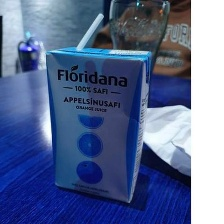carton: (40, 43, 154, 207)
drinking_straw: (72, 11, 107, 51)
